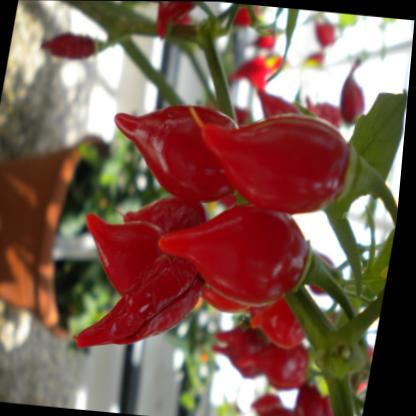chilli_pepper: (177, 67, 411, 233), (148, 184, 390, 332)
